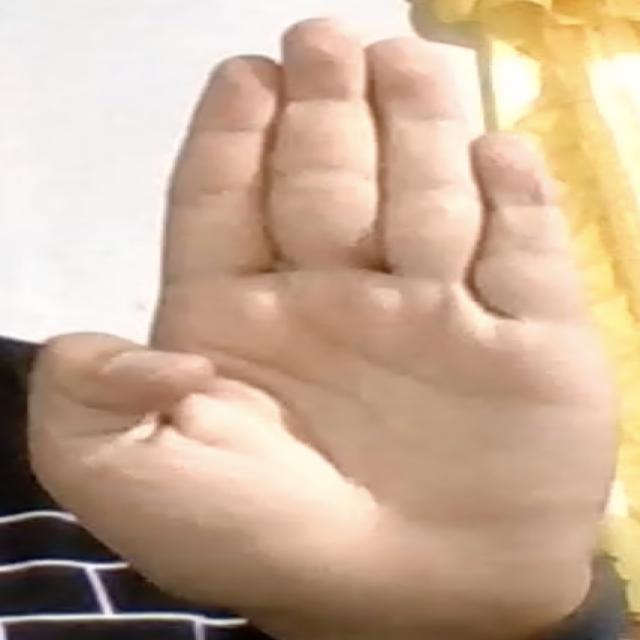B: (19, 10, 628, 630)
